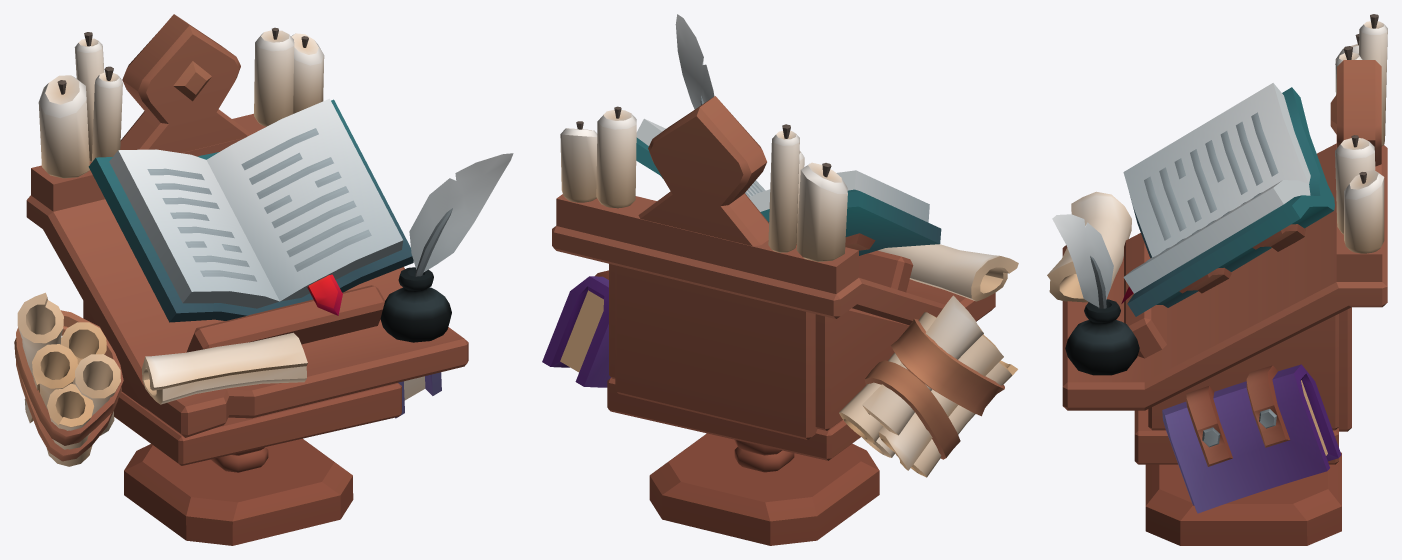
The model's file is Lorekeeper_Tome.gltf.
3 views of the same model, side by side, from view 1: azimuth 30°, elevation 25°; view 2: azimuth 150°, elevation 25°; view 3: azimuth 270°, elevation 25° (orthographic).
Parts seen in each view (by area): view 1: Lorekeeper_Tome; view 2: Lorekeeper_Tome; view 3: Lorekeeper_Tome.
Boxes of the visible parts, <box> form: Lorekeeper_Tome: <box>14,14,513,545</box>; Lorekeeper_Tome: <box>542,14,1018,545</box>; Lorekeeper_Tome: <box>1047,14,1387,545</box>.
Bounding box in the file's own units: 1.58 × 1.65 × 1.14.
1 material, 1 textured.
